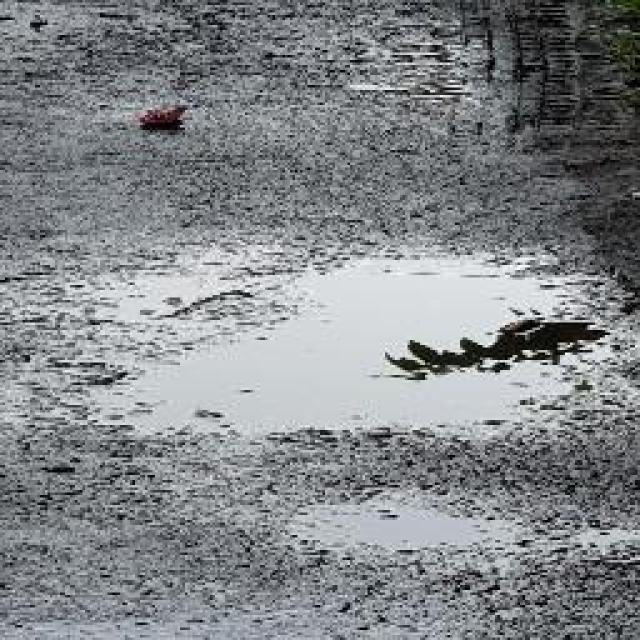stagnation: (0, 234, 637, 446)
